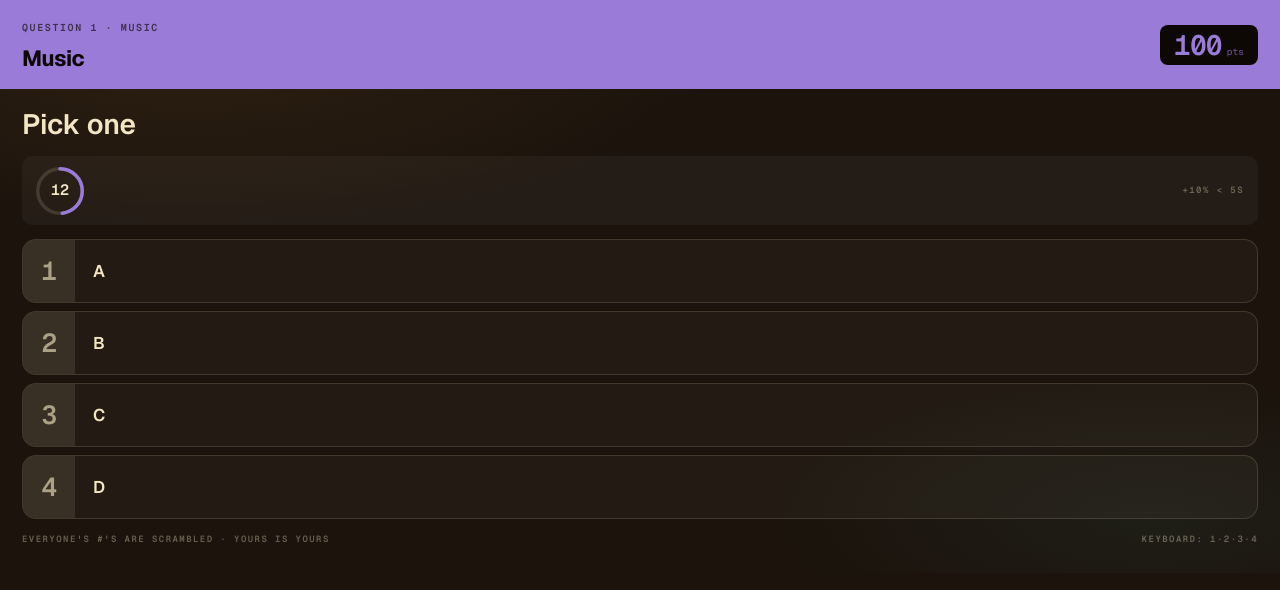
Test: player answer signed snapshot refresh › locks the tapped answer on the same tap and says Sending until the server replies
Click the button with test id "player-answer-1". click: (49, 271)
box: [22,239,1258,303]
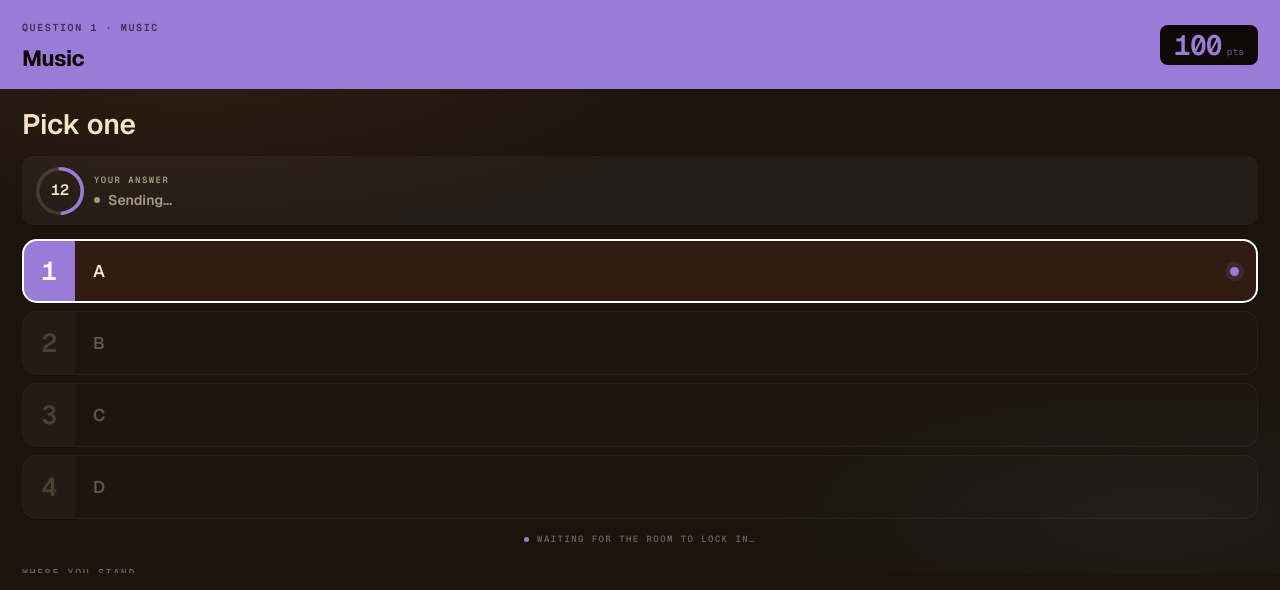
Expected: the message with test id "player-send-status" does not show "locked", [94,174,172,209]
Result: the element with test id "player-locked" is shown
Result: the message with test id "player-send-status" shows "Sending…" at [108,191,172,209]
